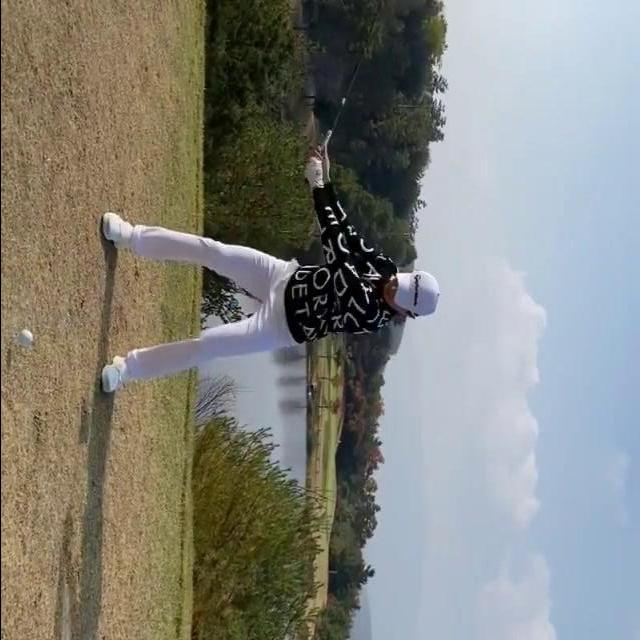ClubHandle: (301, 1, 388, 187)
GolfBall: (14, 327, 33, 346)
